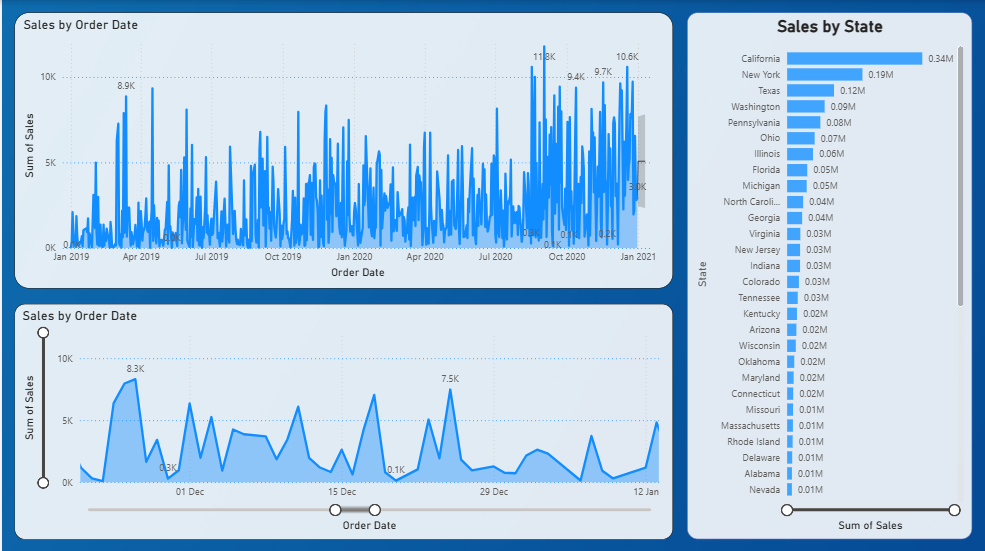

The dashboard page shown, as its layout file describes it:
{"tool":"powerbi","page":{"name":"Sales Forcasting","canvas":[1280,720],"ordinal":1},"visuals":[{"type":"lineChart","title":"Sales by Order Date","fields":{"Y":["Sum(SuperStore_Sales_Dataset.Sales)"],"Category":["SuperStore_Sales_Dataset.Order Date"]},"box":[16.1,16.1,854.3,357.8],"z":0},{"type":"lineChart","title":"Sales by Order Date","fields":{"Y":["Sum(SuperStore_Sales_Dataset.Sales)"],"Category":["SuperStore_Sales_Dataset.Order Date"]},"box":[16.1,394,854.3,305.5],"z":1000},{"type":"barChart","title":"Sales by State","fields":{"Y":["Sum(SuperStore_Sales_Dataset.Sales)"],"Category":["SuperStore_Sales_Dataset.State"]},"box":[888.5,16.1,369.9,683.5],"z":2000}]}

Visuals, with their boxes in screenshot pixels (x1, y1, x2, y2), scaled from the page's 1280x720 canvas onto the 985x551 screenshot:
"Sales by Order Date" lineChart: BBox(12, 12, 670, 286)
"Sales by Order Date" lineChart: BBox(12, 302, 670, 535)
"Sales by State" barChart: BBox(684, 12, 968, 535)
